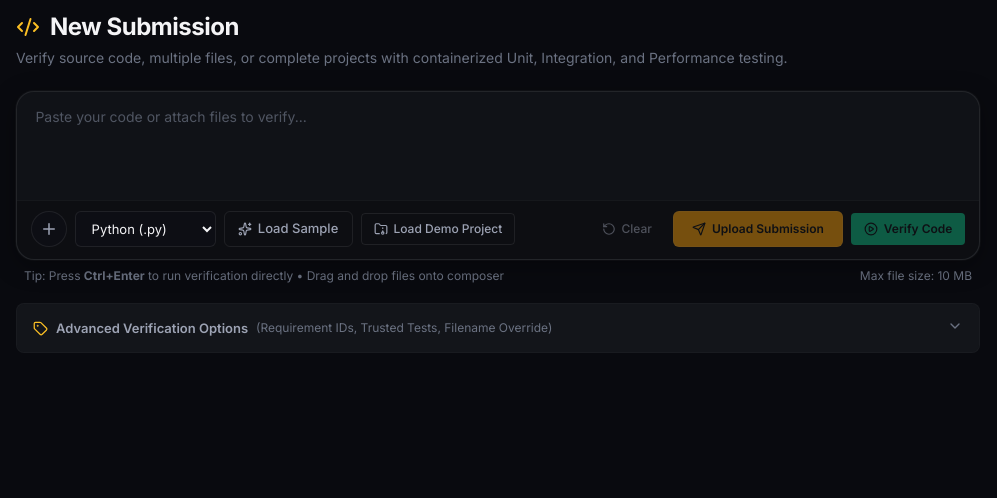
Test case: Unified Code Submission Interface (Task 9 Regression Suite) › 11. displays backend validation errors clearly
Type "invalid syntax ??" into the text box with placeholder "Paste your code or attach files to verify..." at (499, 148), box [35, 106, 963, 190]
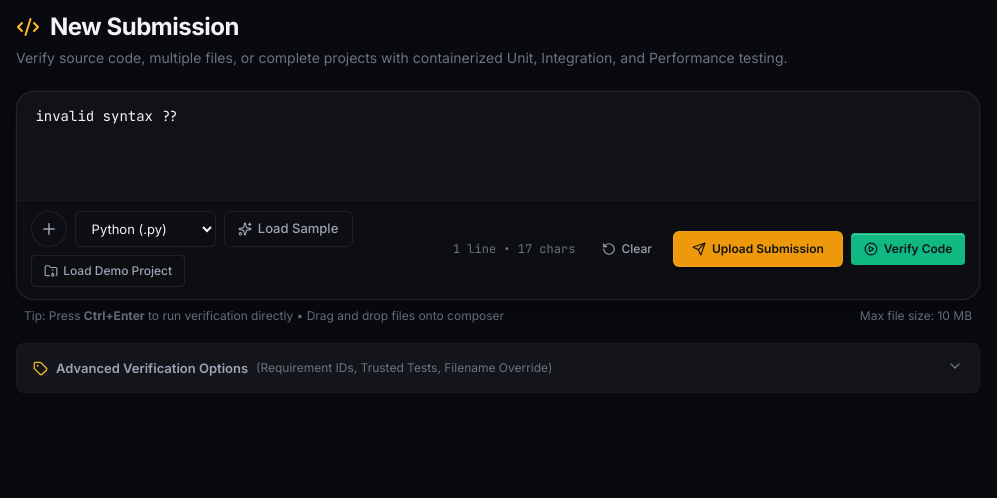
Click the button "Upload Submission" at (758, 249), box [673, 231, 843, 267]
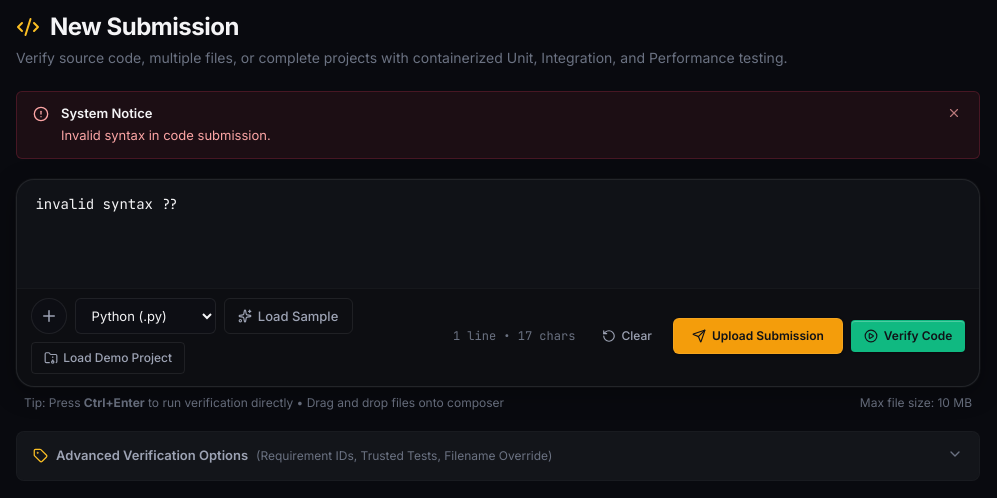
Expected: the text "Invalid syntax in code submission." is shown, [61, 127, 271, 143]
